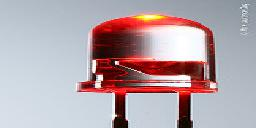LED: (76, 13, 220, 128)
